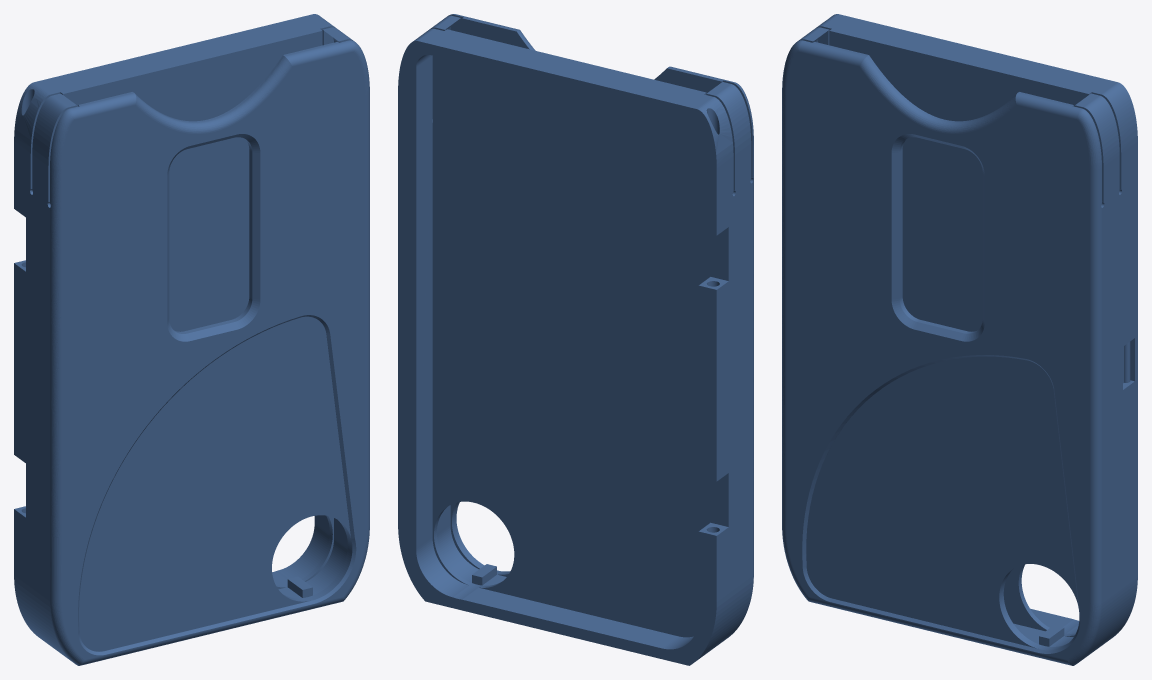
File: wallet.glb
3 views of the same model, side by side, from view 1: azimuth 30°, elevation 25°; view 2: azimuth 150°, elevation 25°; view 3: azimuth 330°, elevation 25° (orthographic).
Visible parts, largest first — view 1: wallet.tmp; view 2: wallet.tmp; view 3: wallet.tmp.
Boxes of the visible parts, bbox=[...] form: wallet.tmp: bbox=[14, 14, 369, 665]; wallet.tmp: bbox=[398, 14, 753, 665]; wallet.tmp: bbox=[782, 14, 1137, 665].
Bounding box in the file's own units: 61.5 × 103 × 13.5.
